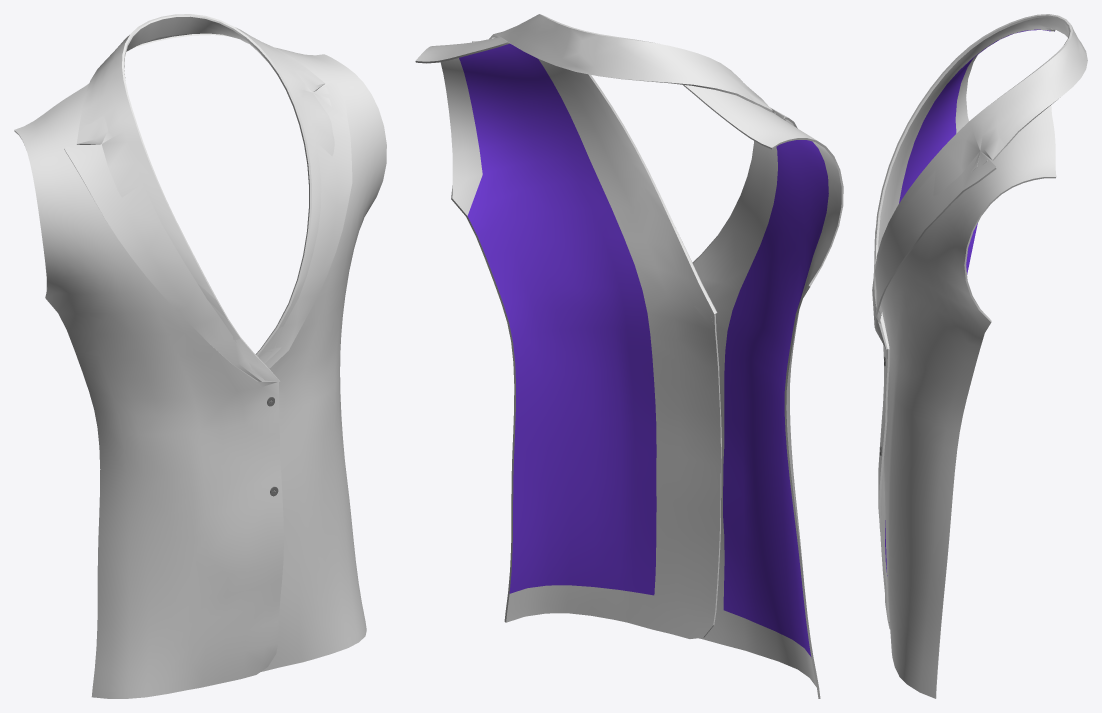
The model's file is Jacket_03_Front.fbx.
3 renders of one model, left to right at view 1: azimuth 30°, elevation 25°; view 2: azimuth 150°, elevation 25°; view 3: azimuth 270°, elevation 25°, orthographic. The views are drawn at different scales.
Visible parts, largest first — view 1: Single-Breasted Notched Lapel 5cm, Single-Breasted Peak Lapel 12cm, Single-Breasted Notched Lapel 7cm; view 2: Single-Breasted Notched Lapel 5cm, Single-Breasted Peak Lapel 7cm; view 3: Single-Breasted Notched Lapel 5cm, Single-Breasted Peak Lapel 12cm.
Part boxes in pixels (left/top/right/bottom): Single-Breasted Notched Lapel 5cm: left=14, top=14, right=386, bottom=698; Single-Breasted Peak Lapel 12cm: left=64, top=69, right=352, bottom=381; Single-Breasted Notched Lapel 7cm: left=101, top=93, right=331, bottom=197; Single-Breasted Notched Lapel 5cm: left=415, top=14, right=843, bottom=698; Single-Breasted Peak Lapel 7cm: left=571, top=108, right=774, bottom=256; Single-Breasted Notched Lapel 5cm: left=873, top=14, right=1087, bottom=698; Single-Breasted Peak Lapel 12cm: left=872, top=126, right=1005, bottom=328.
Bounding box in the file's own units: 41.45 × 68.4 × 22.27.
